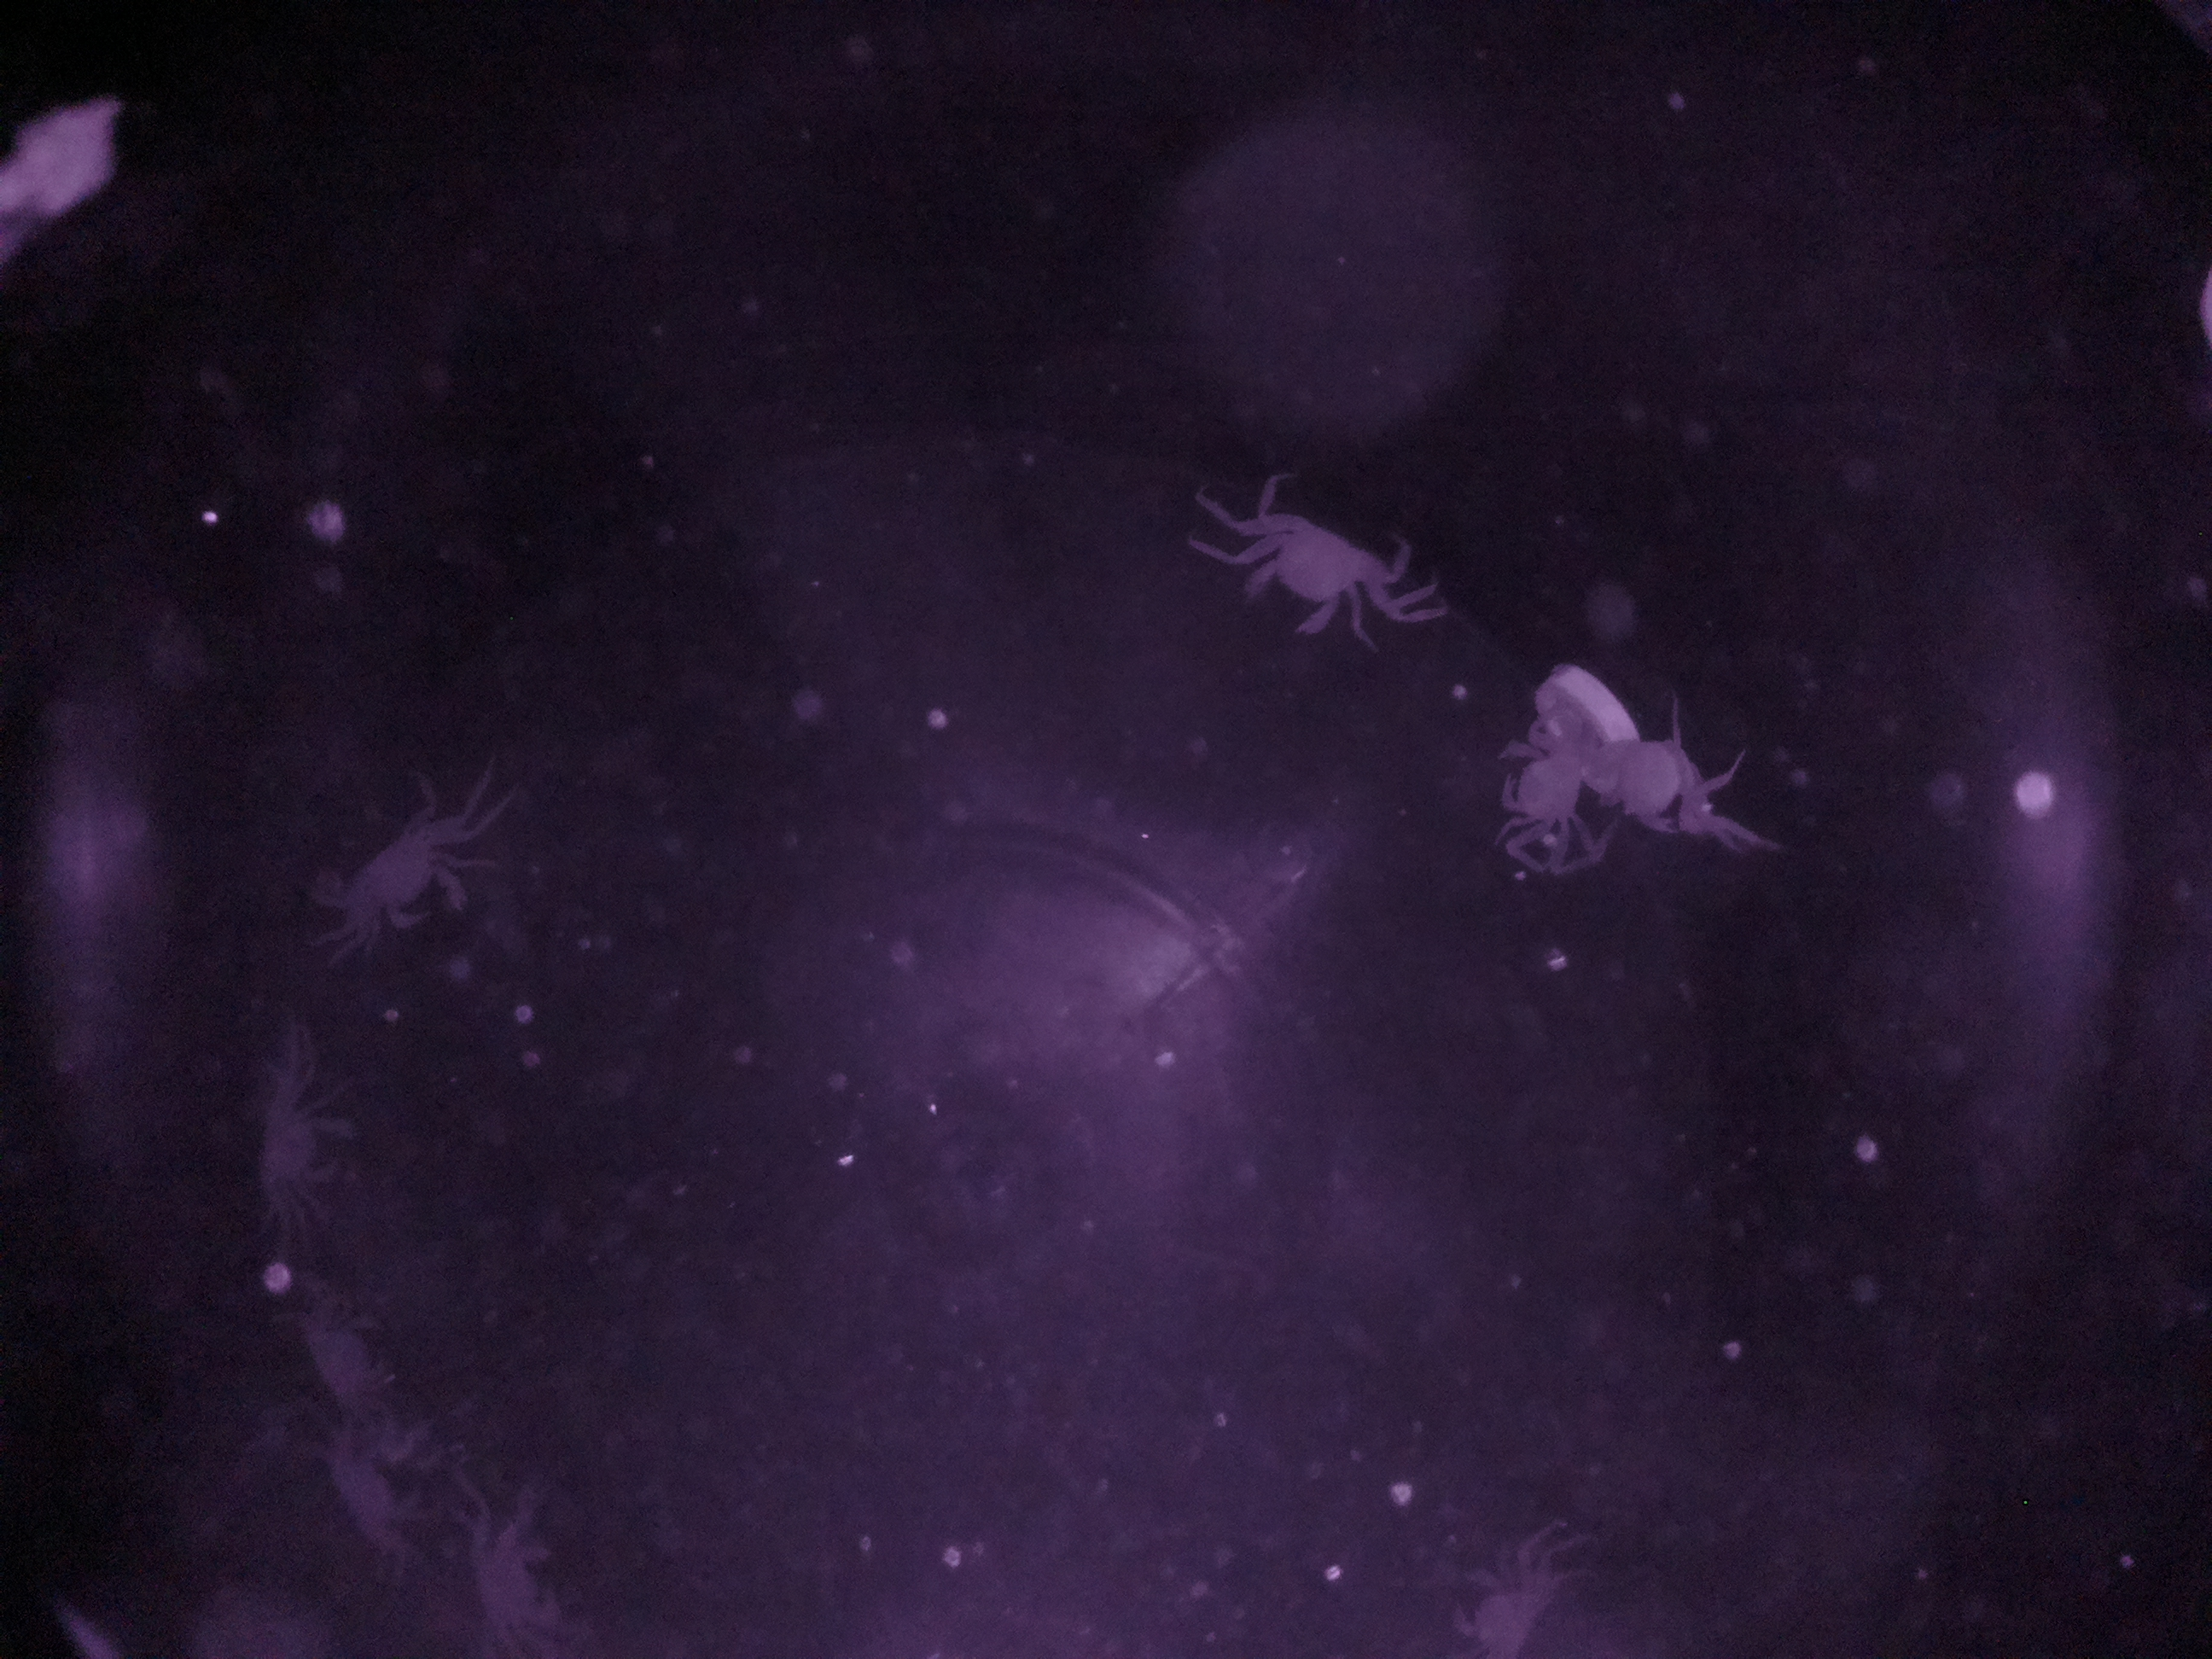Crab: (294, 777, 503, 962), (1209, 488, 1420, 659)
